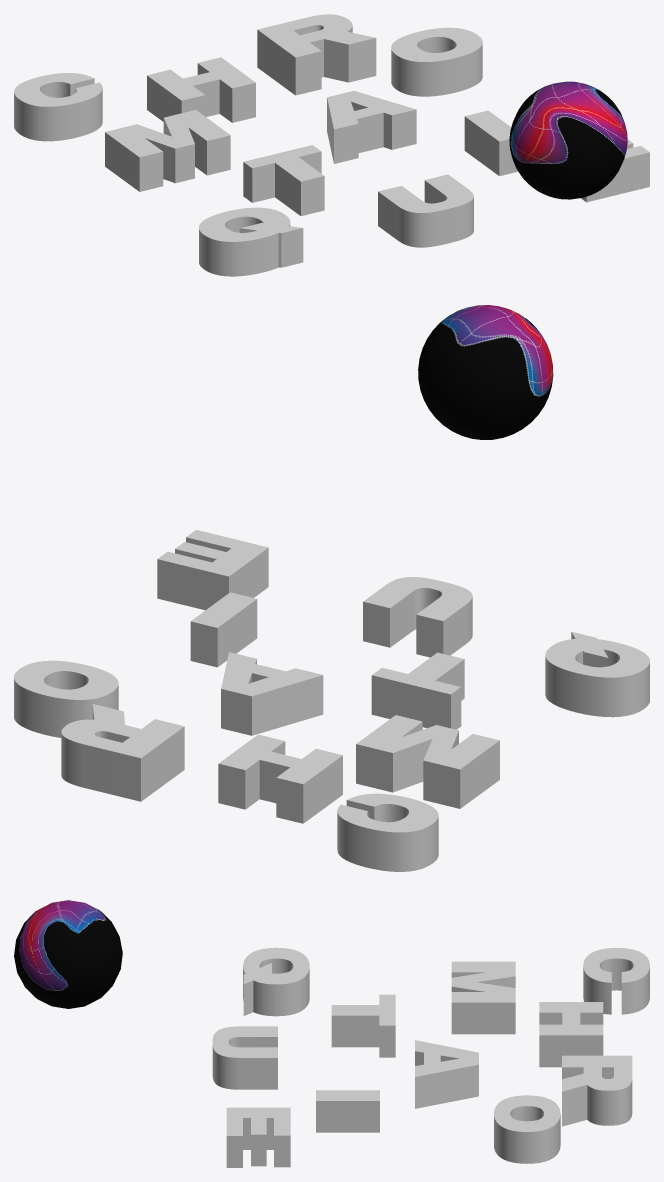
File: essaie22tabarnak.gltf
3 renders of one model, top to bottom at view 1: azimuth 30°, elevation 25°; view 2: azimuth 150°, elevation 25°; view 3: azimuth 270°, elevation 25°, orthographic. The views are drawn at different scales.
Visible parts, largest first — view 1: typeMesh1, pSphere1; view 2: typeMesh1, pSphere1; view 3: typeMesh1, pSphere1.
Boxes of the visible parts, left/top/right/bottom form: typeMesh1: left=14, top=14, right=649, bottom=276; pSphere1: left=509, top=81, right=627, bottom=199; typeMesh1: left=14, top=530, right=649, bottom=871; pSphere1: left=418, top=305, right=553, bottom=439; typeMesh1: left=212, top=947, right=649, bottom=1167; pSphere1: left=14, top=900, right=122, bottom=1008.
Bounding box in the file's own units: 8.18 × 3.79 × 11.68.
2 materials, 1 textured.
